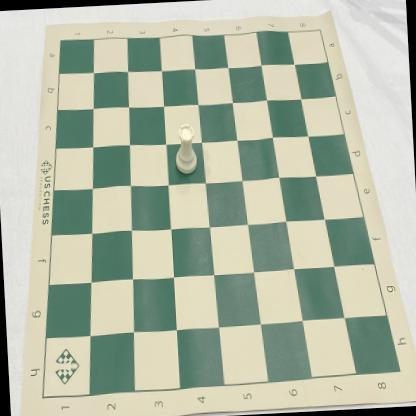rook: (173, 123, 198, 175)
